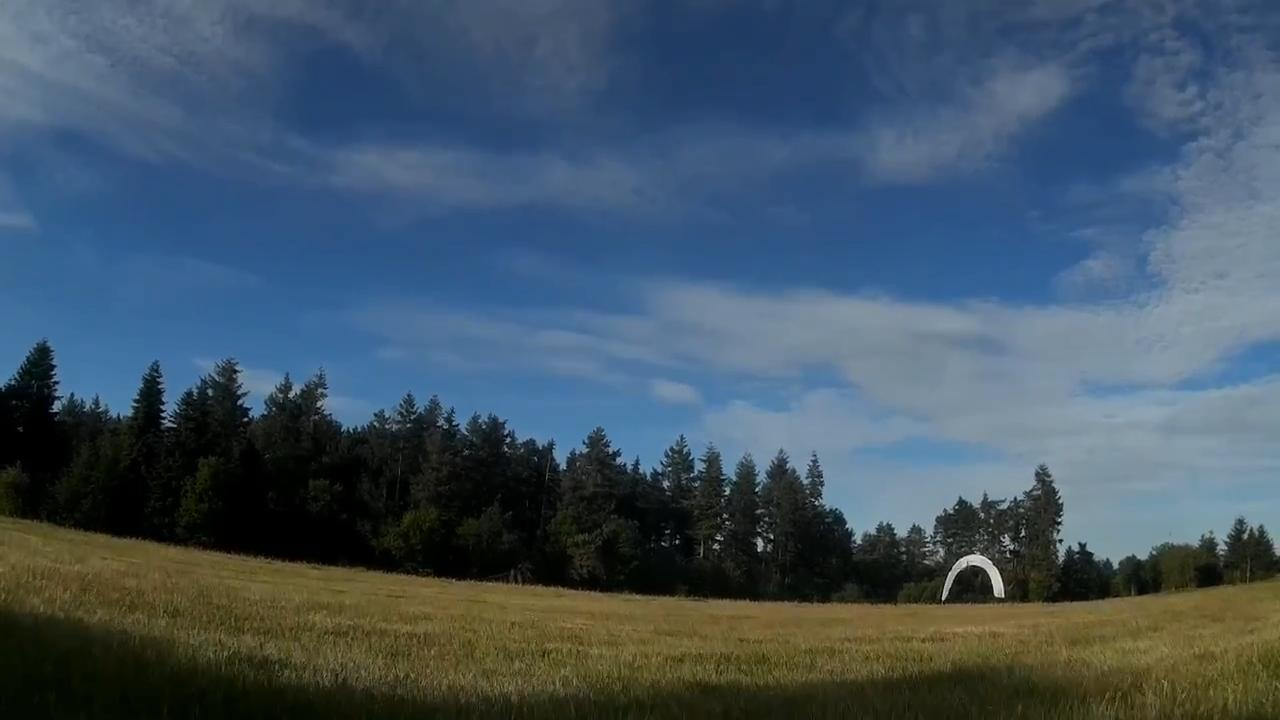gate: (940, 551, 1002, 602)
